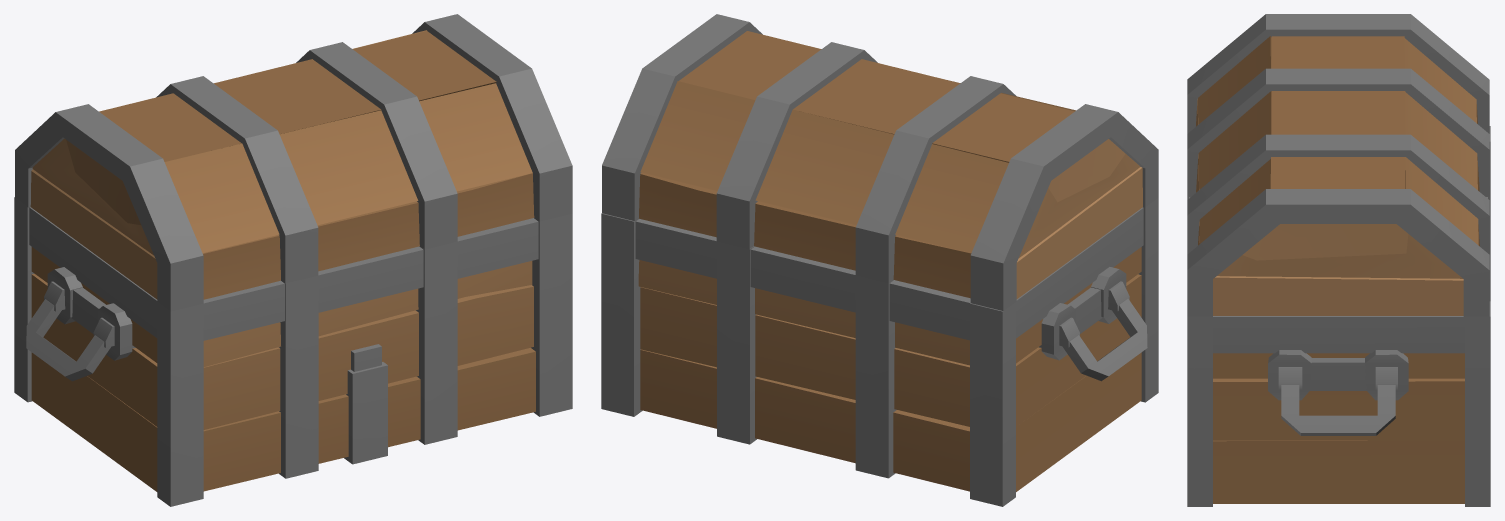
The model's file is Box_Wood_C.fbx.
The picture shows the model from 3 angles, left to right: view 1: azimuth 30°, elevation 25°; view 2: azimuth 150°, elevation 25°; view 3: azimuth 270°, elevation 25°; orthographic projection. The views are drawn at different scales.
Parts seen in each view (by area): view 1: Box_Wood_C; view 2: Box_Wood_C; view 3: Box_Wood_C.
Boxes of the visible parts, bbox=[...] form: Box_Wood_C: bbox=[14, 14, 572, 506]; Box_Wood_C: bbox=[601, 14, 1158, 506]; Box_Wood_C: bbox=[1187, 14, 1490, 506].
Bounding box in the file's own units: 86.05 × 51.89 × 46.88.
